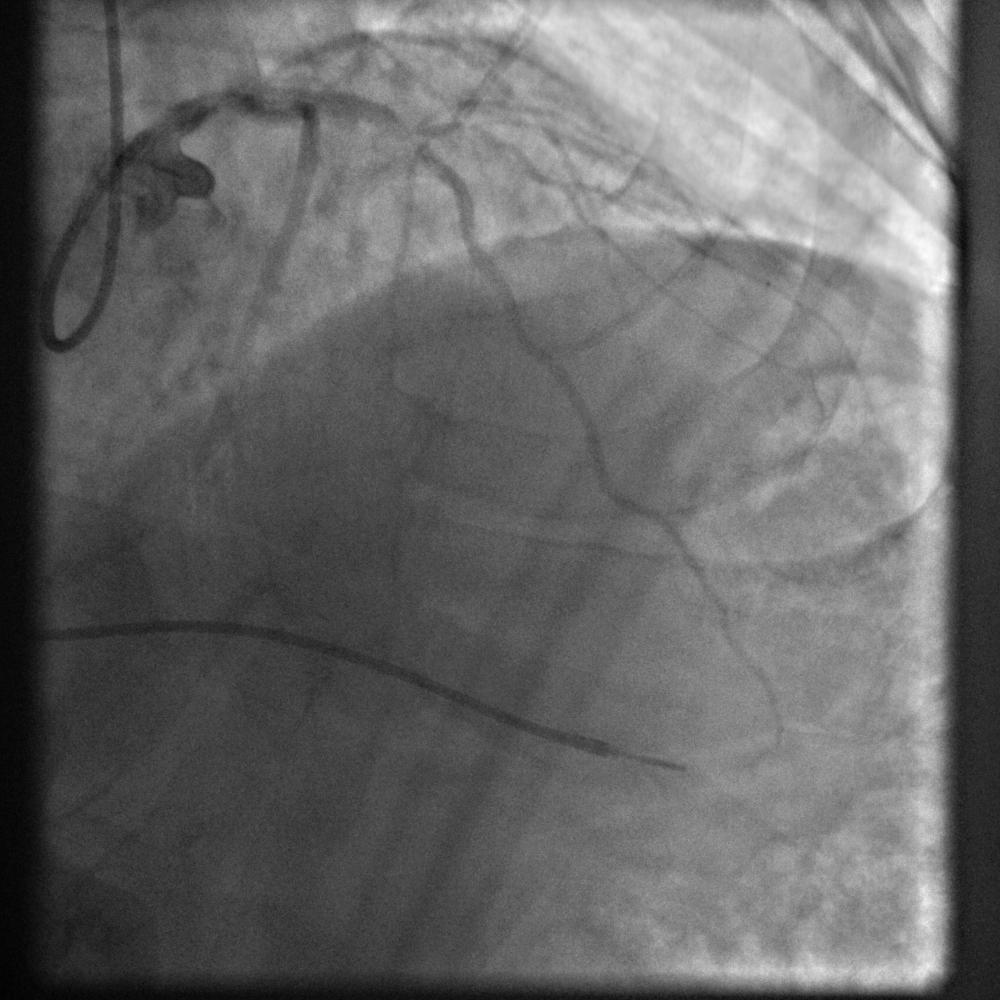Stenosis: (386, 117, 442, 163)
